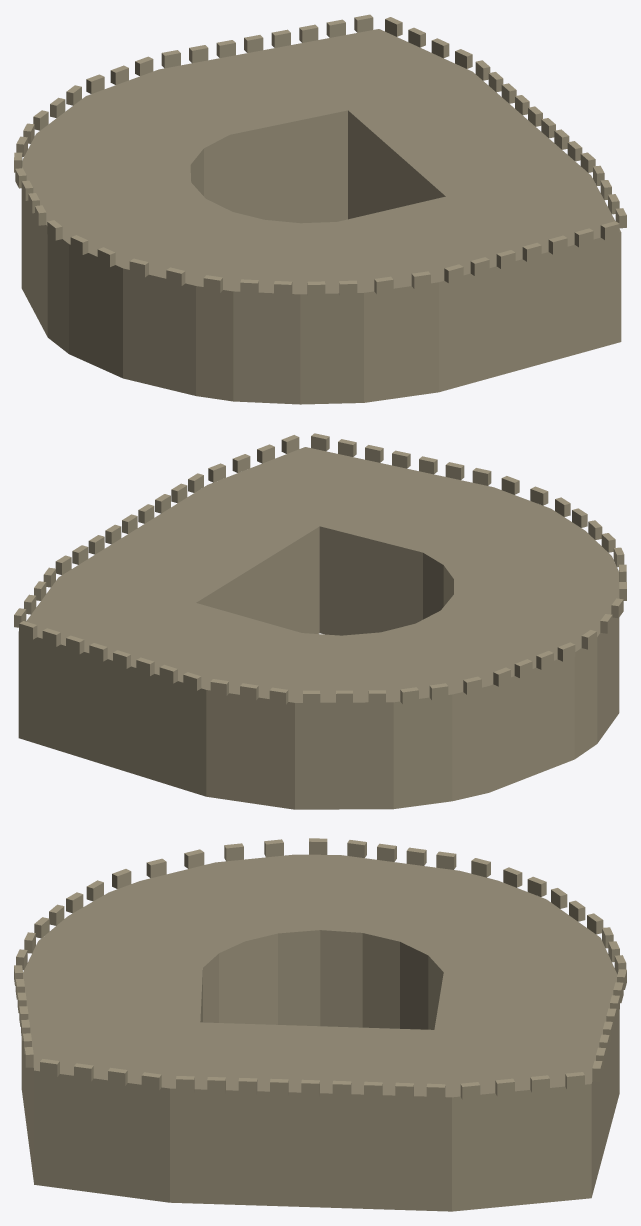
File: citadella.glb
The picture shows the model from 3 angles, top to bottom: view 1: azimuth 30°, elevation 25°; view 2: azimuth 150°, elevation 25°; view 3: azimuth 270°, elevation 25°; orthographic projection. The views are drawn at different scales.
Visible parts, largest first — view 1: citadella; view 2: citadella; view 3: citadella.
Part boxes in pixels (x1,y1,x2,y2): citadella: (14, 14, 626, 404); citadella: (14, 433, 626, 809); citadella: (14, 838, 626, 1211).
Bounding box in the file's own units: 58.06 × 13.81 × 60.33.
